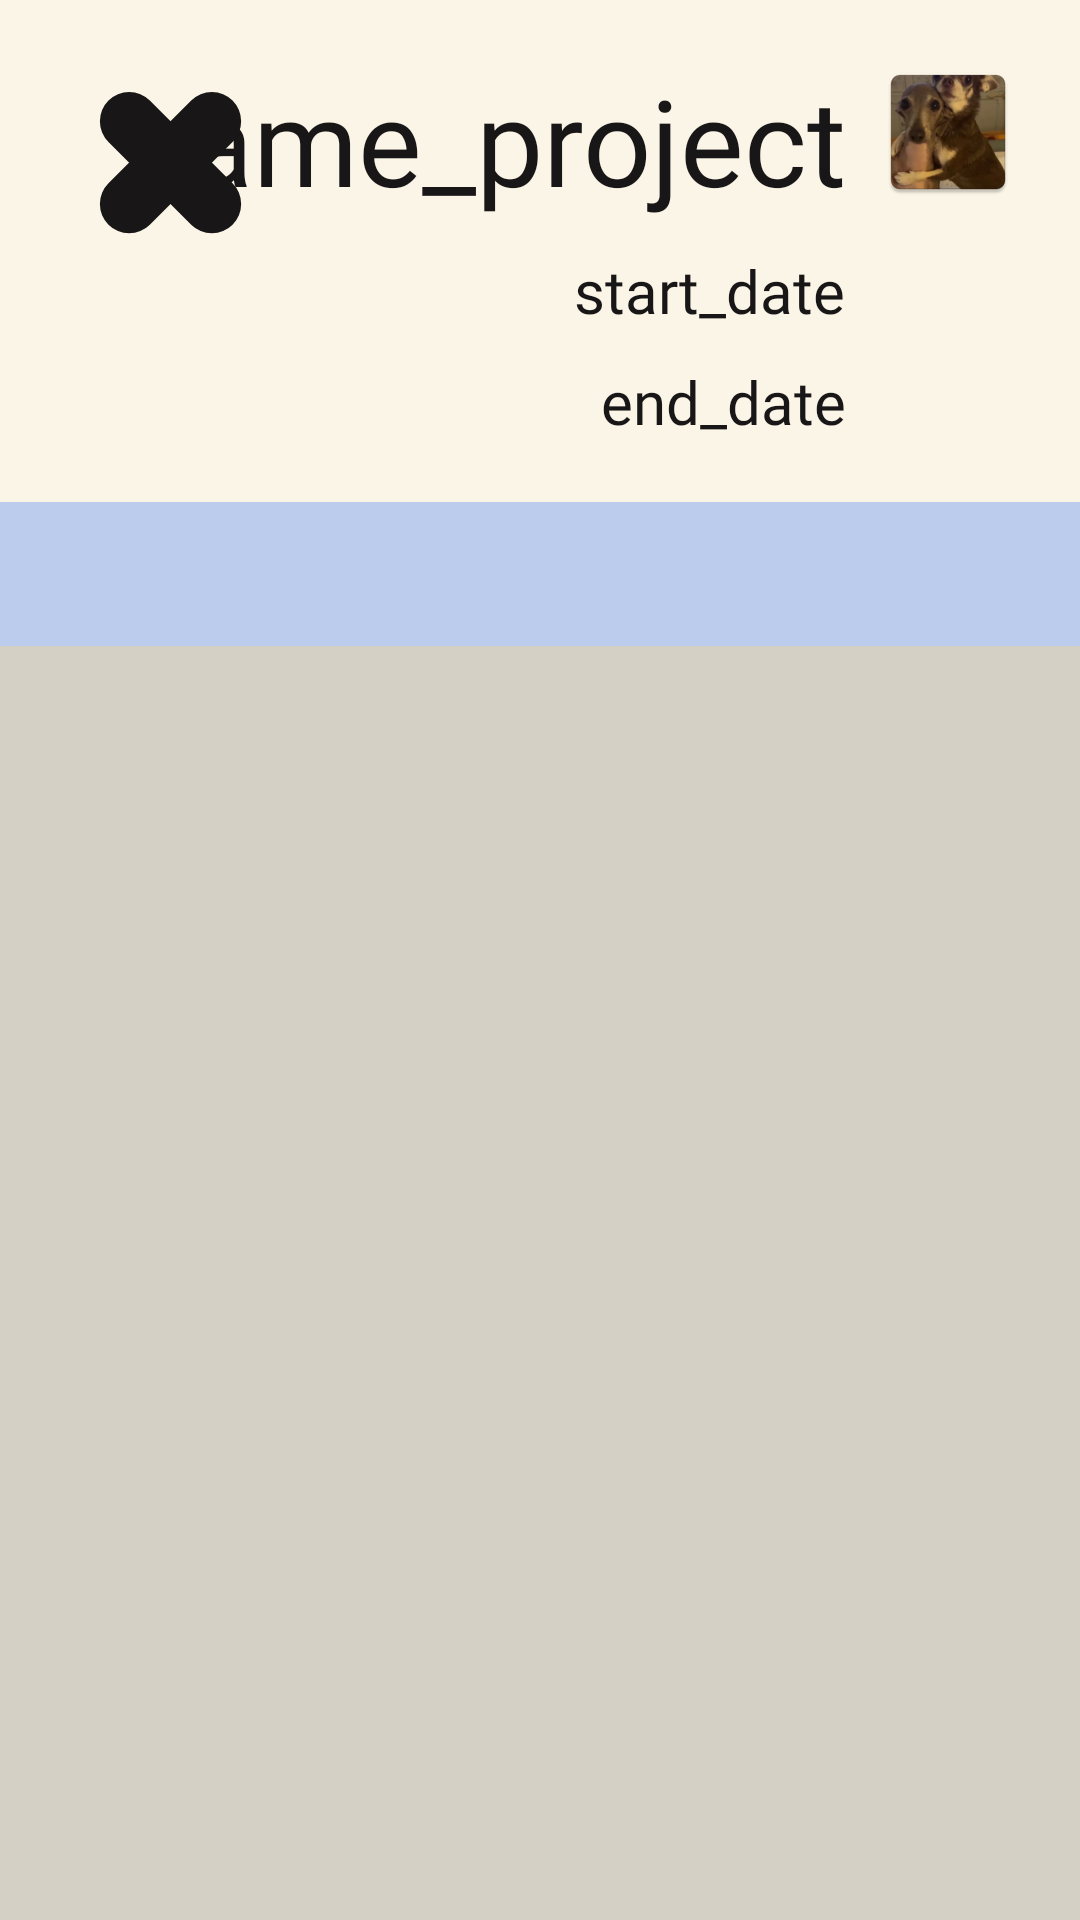

Icon bounding boxes for this 1080w x 1920h phone screenshot, format (x1, y1, x2, y2):
close: (100, 92, 247, 234)
